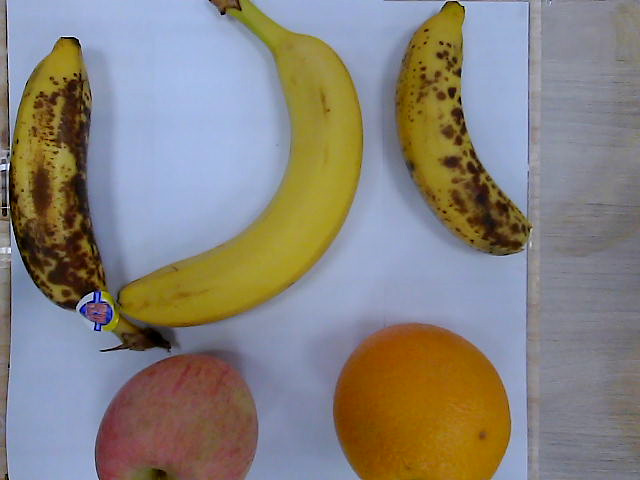fresh_apple: (95, 354, 257, 480)
fresh_banana: (119, 1, 365, 330)
fresh_orange: (334, 322, 511, 480)
rotten_banana: (11, 37, 171, 357), (396, 3, 533, 258)
